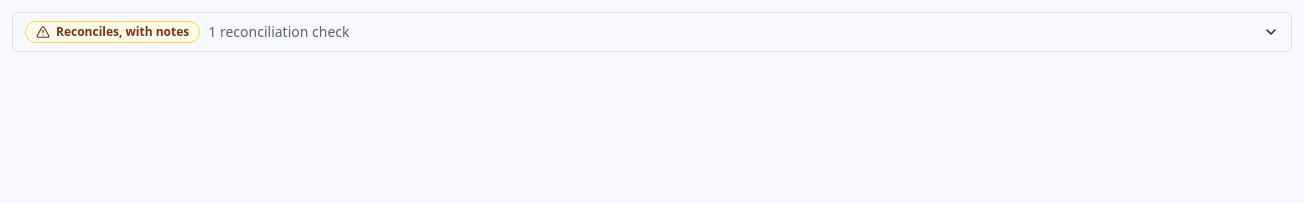
Test: the offline parts of the X and Z › shows the offline-exceptions check as a warning
Note: A warning keeps the panel closed until opened (only a FAIL opens it).
Click the button "Reconciles, with notes 1 reconciliation check": (113, 32) [13,13,1291,51]
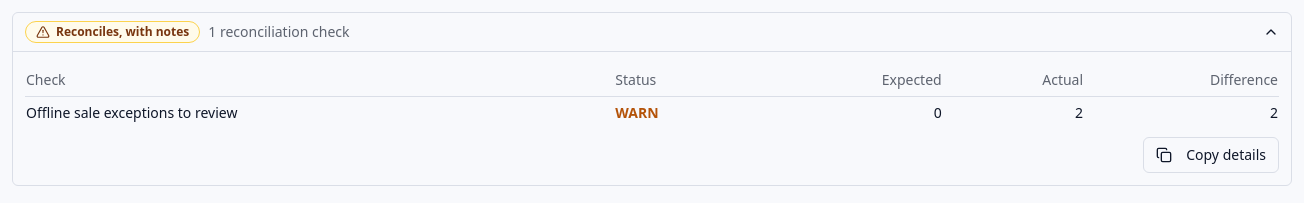
Expected: the text "Offline sale exceptions to review" is shown, [25,96,614,129]
Expected: the text "WARN" is shown, [614,96,762,129]
